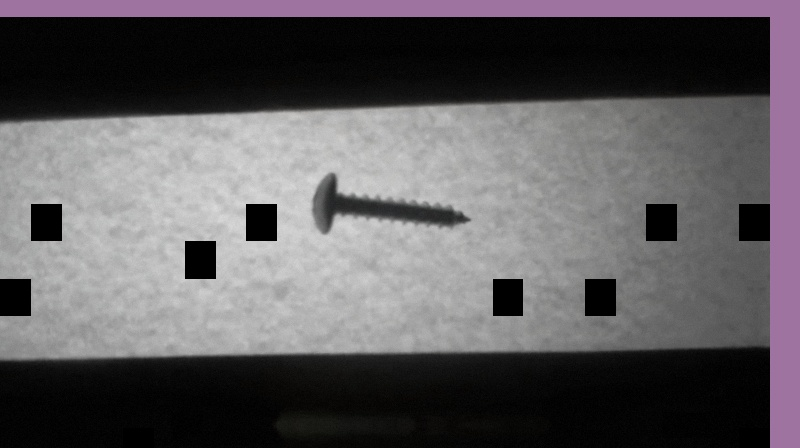S003: (306, 169, 474, 236)
